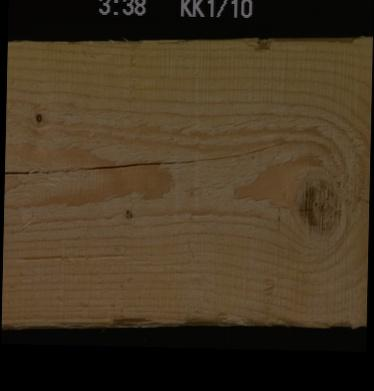dry_knot: (33, 110, 41, 122)
small_knot: (122, 206, 133, 219)
sound_knot: (296, 181, 344, 233)
split: (4, 133, 290, 177)
wave: (57, 306, 366, 330)
